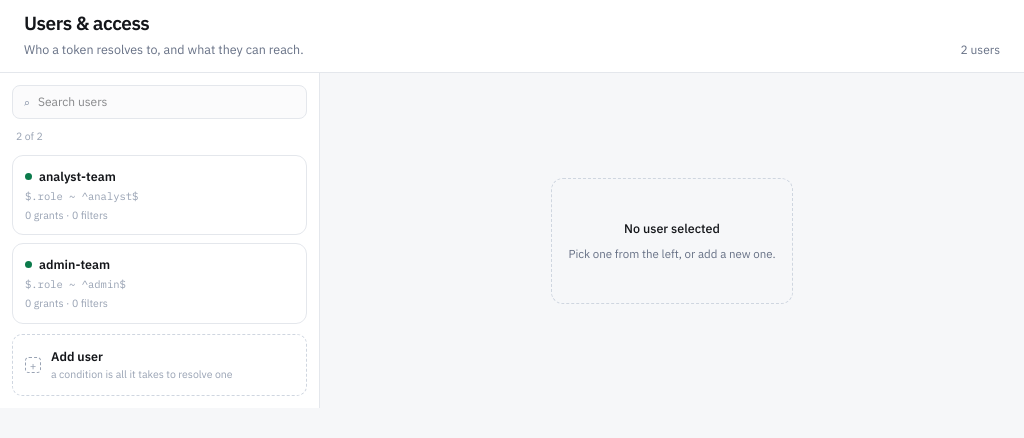
it: UsersScreen › switching the selected user does not leak the previous one's edited draft
Click the button "analyst-team $.role ~ ^analyst$ 0 grants · 0 filters".
click(77, 176)  # box [12,155,307,235]
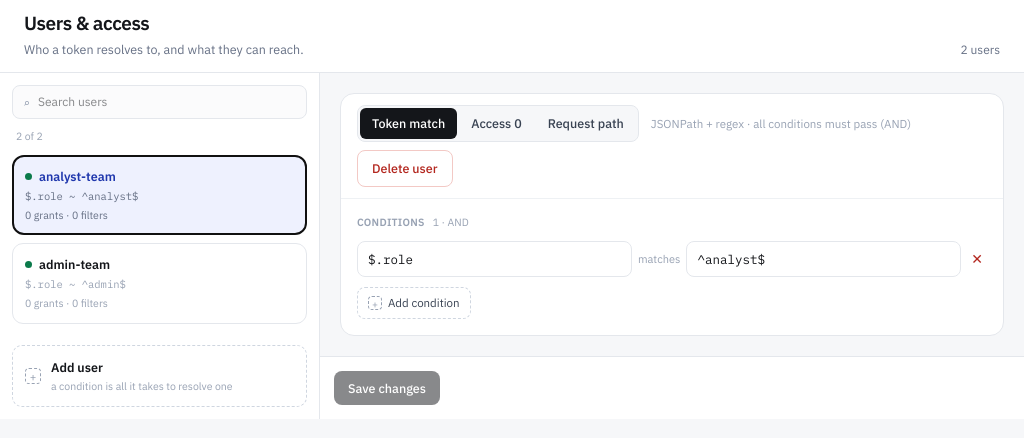
Replace the text in the field named "Condition 1 regex" with "^lead$" at [824, 259], box [686,240,961,277]
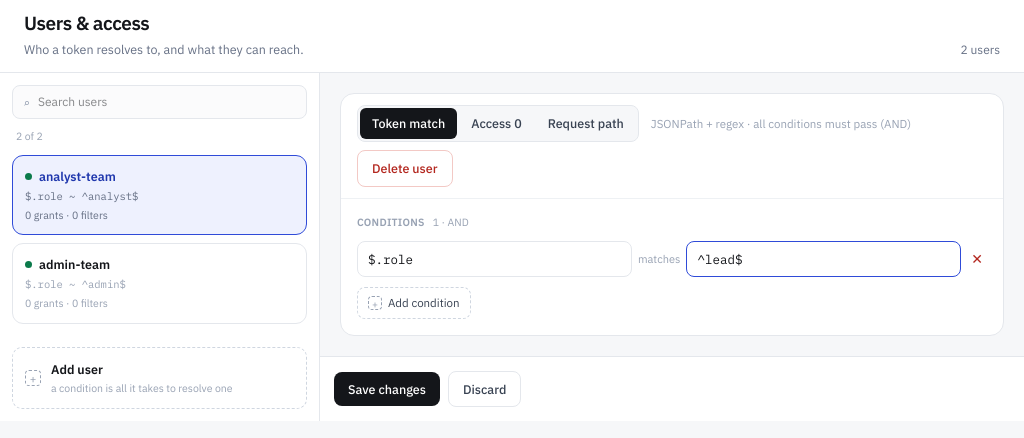
Click the button "admin-team $.role ~ ^admin$ 0 grants · 0 filters".
click(75, 264)  # box [12,243,307,324]
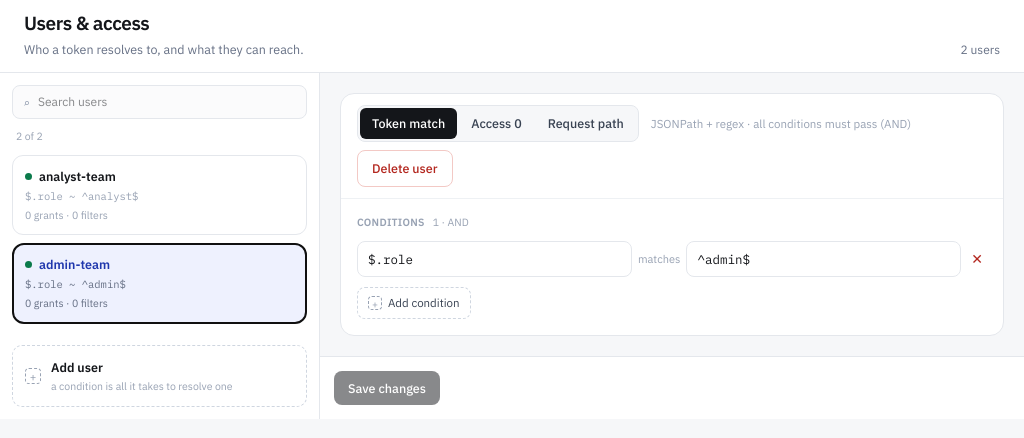
Expected: the field named "Condition 1 regex" holds "^admin$", [686,240,961,277]
